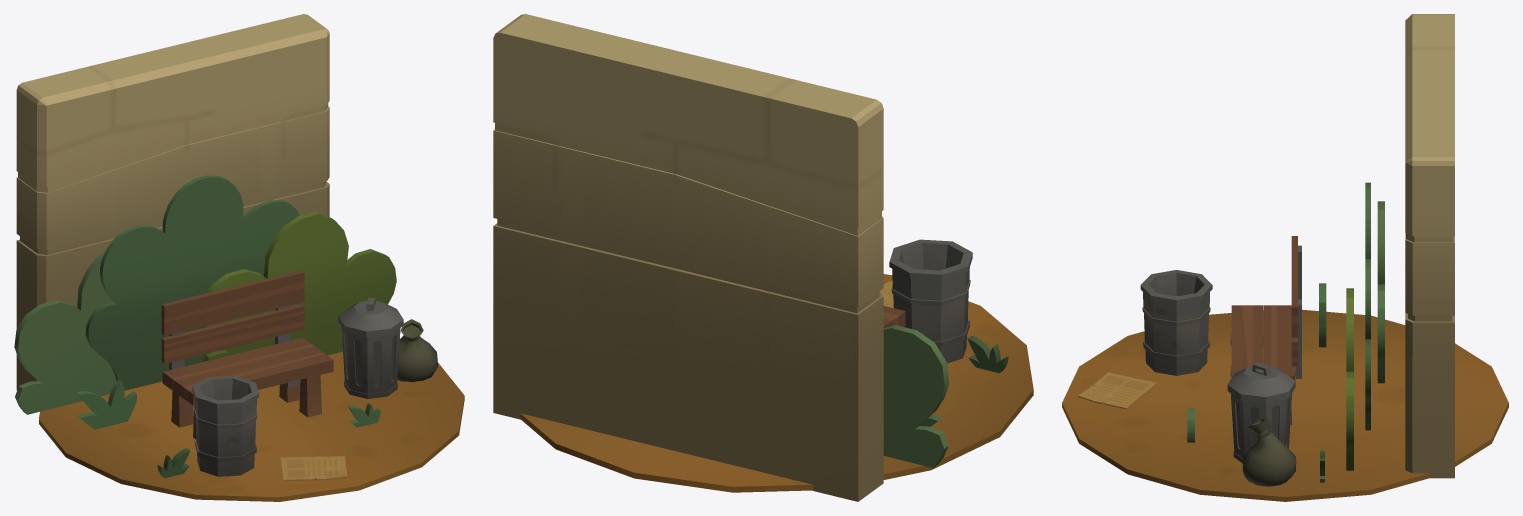
Rendered from envorinment.fbx.
3 views of the same model, side by side, from view 1: azimuth 30°, elevation 25°; view 2: azimuth 150°, elevation 25°; view 3: azimuth 270°, elevation 25° (orthographic). The views are drawn at different scales.
Visible parts, largest first — view 1: Cube, bushes, ground, bench, barrel, trash box, trash, news; view 2: Cube, ground, bushes, barrel; view 3: ground, Cube, barrel, bench, bushes, trash box, trash, news.
Part boxes in pixels (left/top/right/bottom): Cube: left=16, top=14, right=329, bottom=390; bushes: left=14, top=175, right=396, bottom=478; ground: left=39, top=351, right=464, bottom=501; bench: left=161, top=270, right=333, bottom=439; barrel: left=192, top=375, right=259, bottom=476; trash box: left=338, top=297, right=403, bottom=398; trash: left=397, top=319, right=437, bottom=382; news: left=280, top=456, right=347, bottom=481; Cube: left=493, top=14, right=883, bottom=501; ground: left=520, top=274, right=1033, bottom=492; bushes: left=883, top=325, right=1008, bottom=467; barrel: left=889, top=239, right=972, bottom=363; ground: left=1062, top=309, right=1508, bottom=501; Cube: left=1405, top=14, right=1454, bottom=478; barrel: left=1140, top=270, right=1212, bottom=375; bench: left=1230, top=236, right=1301, bottom=424; bushes: left=1187, top=182, right=1384, bottom=482; trash box: left=1227, top=362, right=1295, bottom=463; trash: left=1242, top=417, right=1296, bottom=486; news: left=1078, top=372, right=1156, bottom=409.
Bounding box in the file's own units: 485 × 378 × 480.
